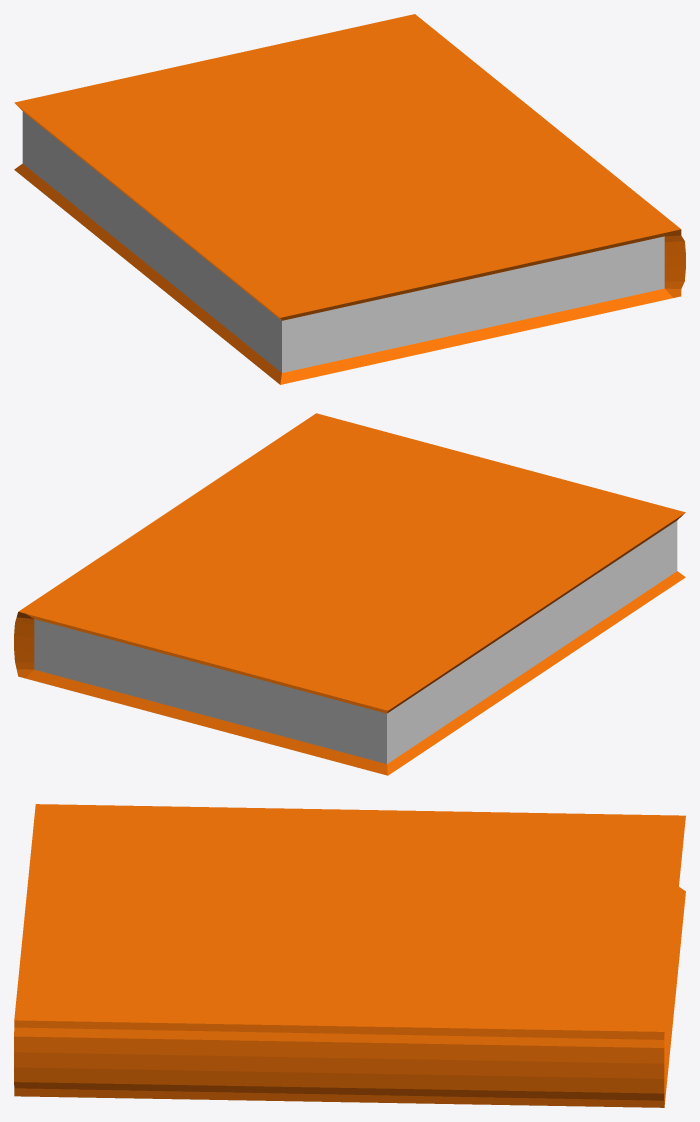
The model's file is naranja.fbx.
3 views of the same model, one above another, from view 1: azimuth 30°, elevation 25°; view 2: azimuth 150°, elevation 25°; view 3: azimuth 270°, elevation 25° (orthographic). The views are drawn at different scales.
Visible parts, largest first — view 1: Cubo.013; view 2: Cubo.013; view 3: Cubo.013.
Boxes of the visible parts, x1,y1,x2,y2 form: Cubo.013: (14, 14, 685, 384); Cubo.013: (14, 413, 685, 775); Cubo.013: (14, 804, 685, 1107).
Bounding box in the file's own units: 87.77 × 13.49 × 108.
